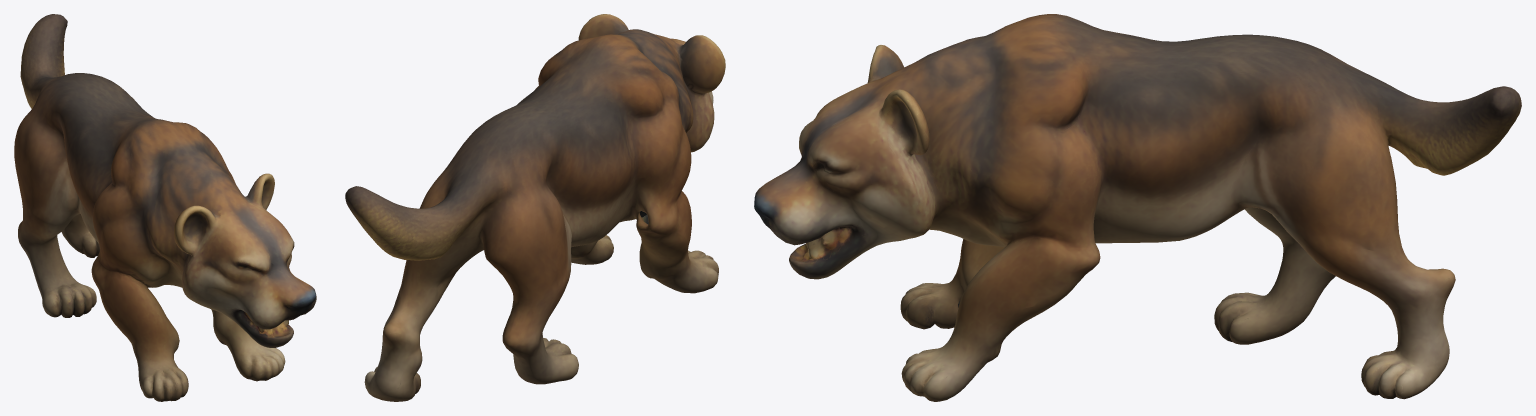
The picture shows the model from 3 angles, left to right: view 1: azimuth 30°, elevation 25°; view 2: azimuth 150°, elevation 25°; view 3: azimuth 270°, elevation 25°; orthographic projection. The views are drawn at different scales.
Visible parts, largest first — view 1: world; view 2: world; view 3: world.
Part boxes in pixels (x1=…): world: x1=14, y1=14, x2=316, y2=401; world: x1=345, y1=14, x2=725, y2=401; world: x1=754, y1=14, x2=1521, y2=401.
Bounding box in the file's own units: 0.4255 × 0.6521 × 1.36.
1 material, 1 textured.
